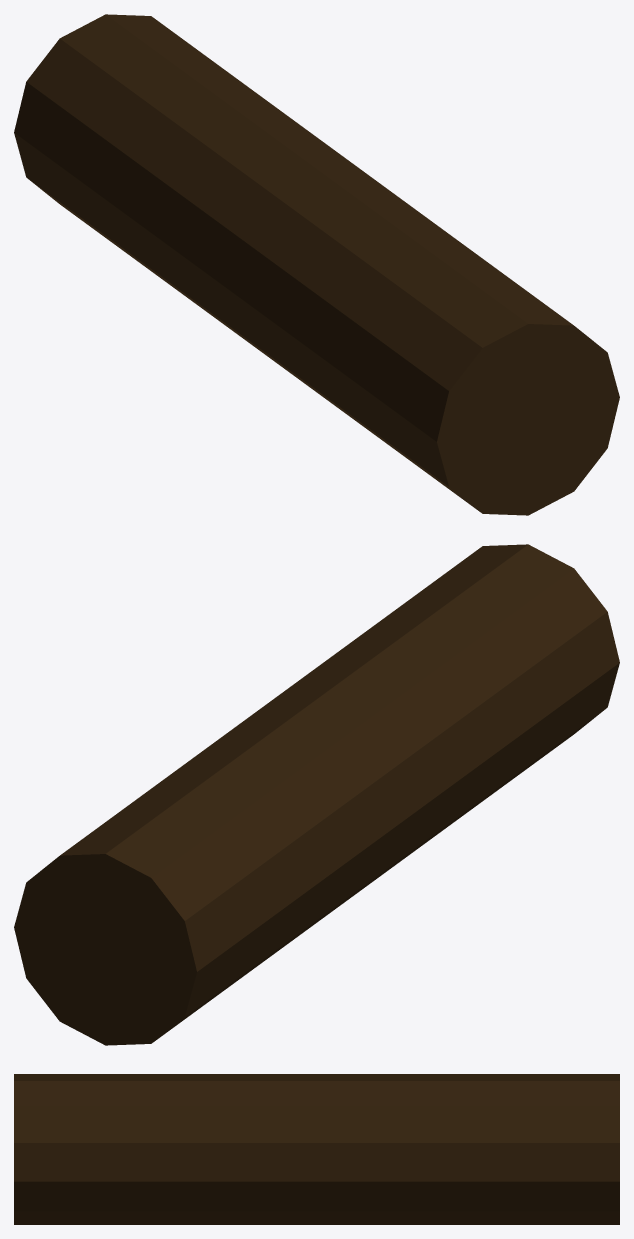
The model's file is expTreeBranch2.fbx.
3 views of the same model, one above another, from view 1: azimuth 30°, elevation 25°; view 2: azimuth 150°, elevation 25°; view 3: azimuth 270°, elevation 25° (orthographic). The views are drawn at different scales.
Visible parts, largest first — view 1: pCylinder1; view 2: pCylinder1; view 3: pCylinder1.
Part boxes in pixels (bbox=[...]): pCylinder1: bbox=[14, 14, 619, 515]; pCylinder1: bbox=[14, 544, 619, 1045]; pCylinder1: bbox=[14, 1074, 619, 1224].
Bounding box in the file's own units: 10 × 10 × 40.
